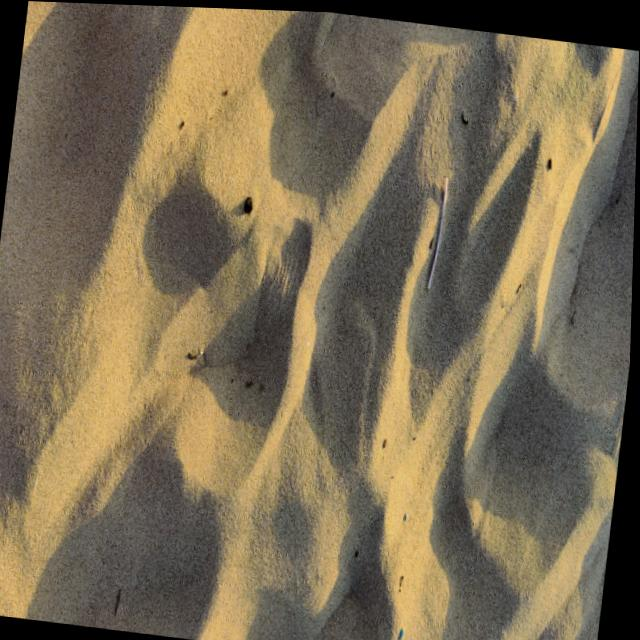Plastic: (425, 168, 450, 292)
